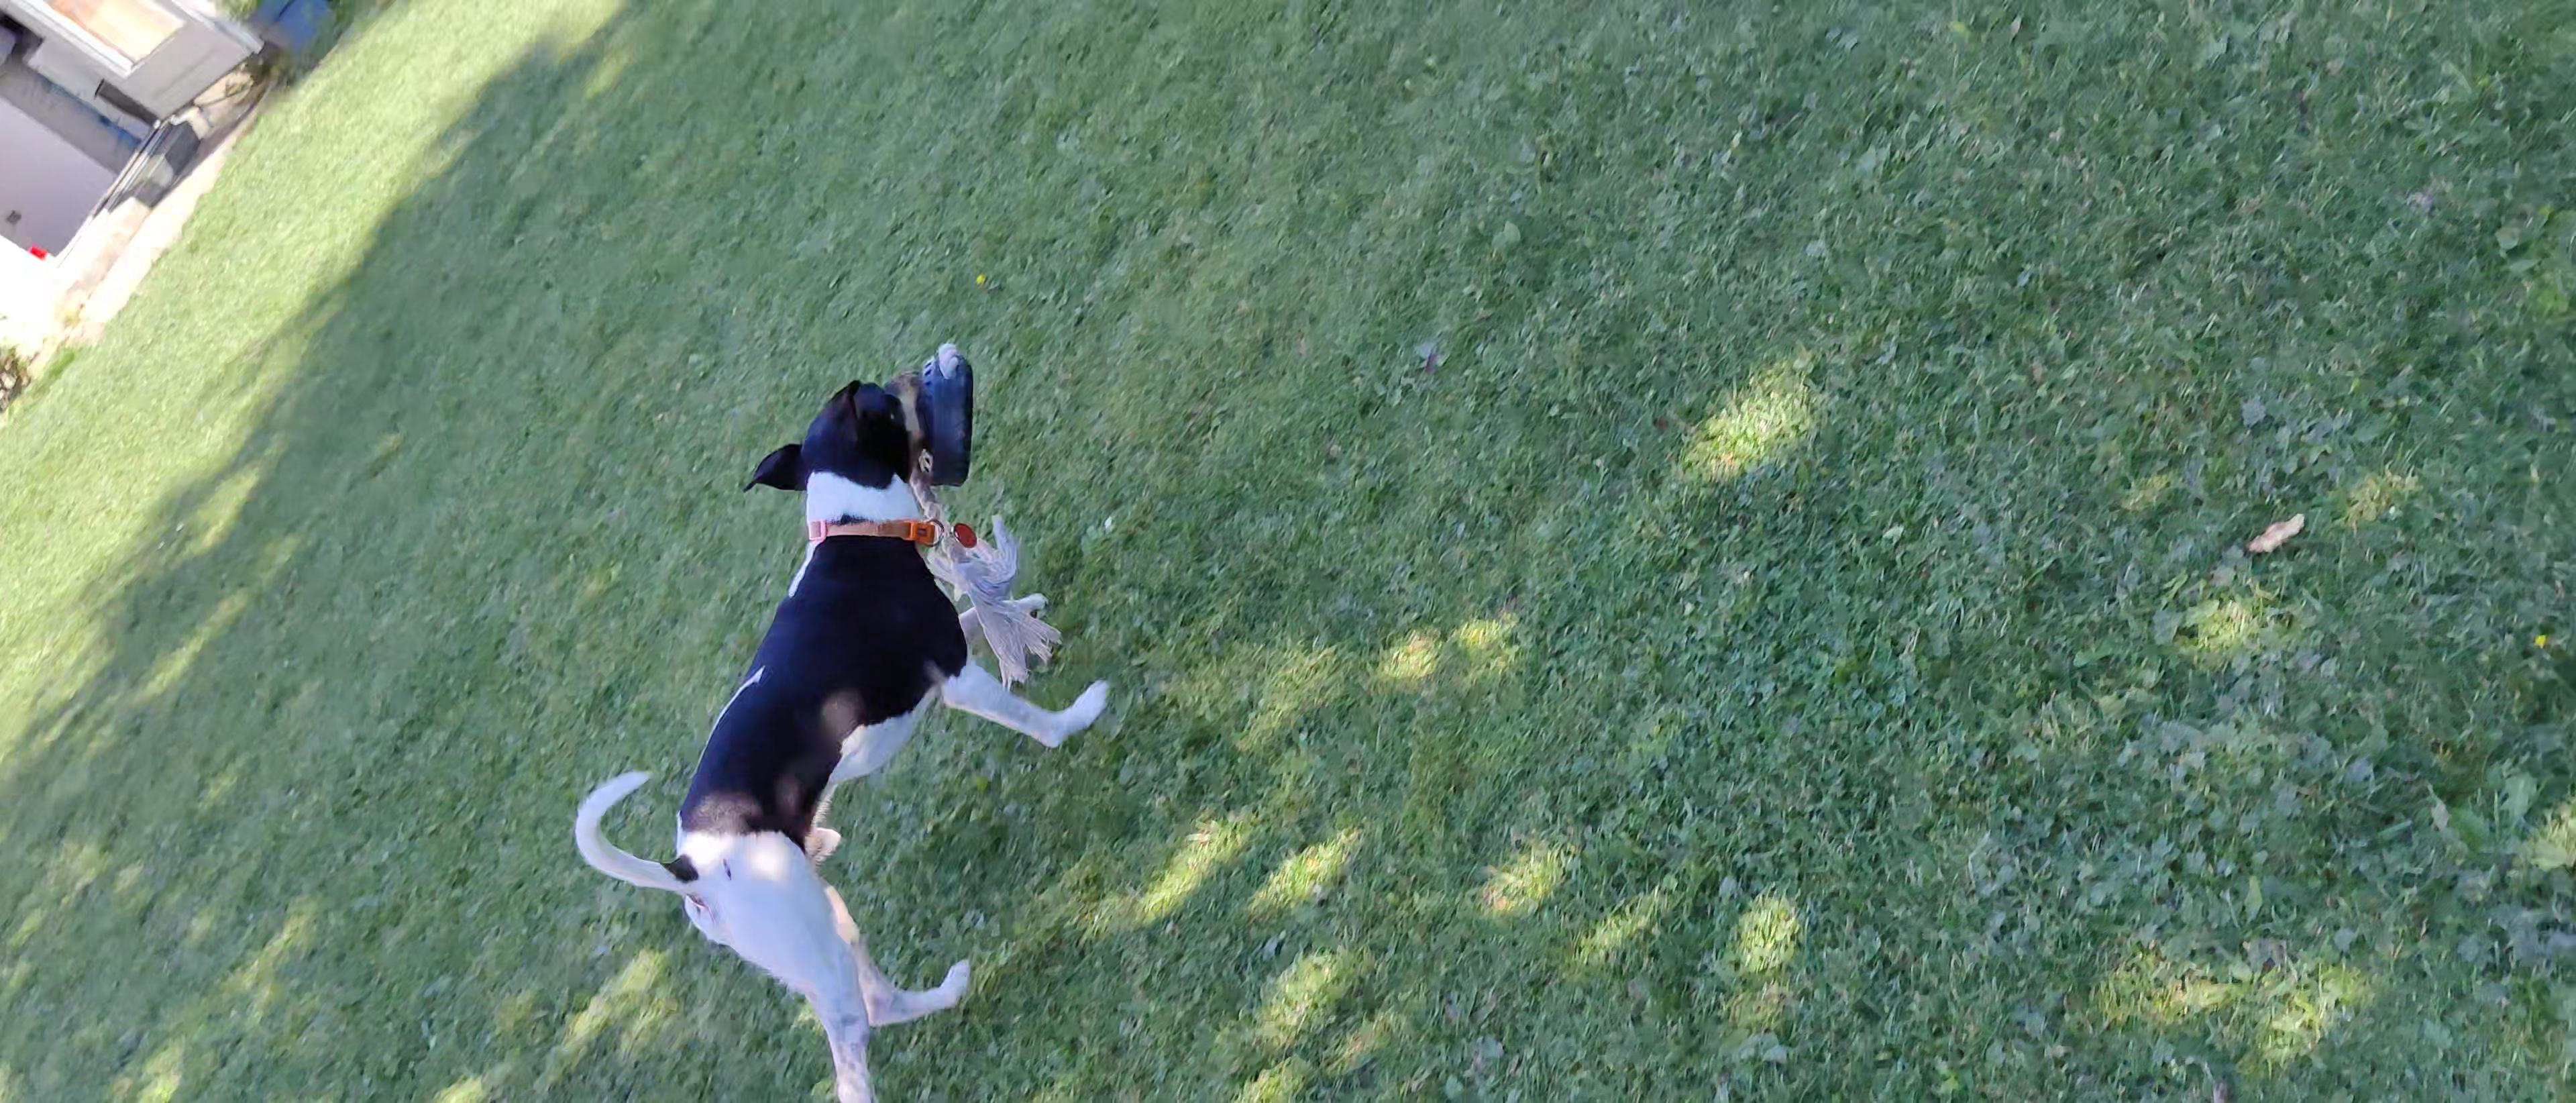Dog: (562, 370, 1112, 1103)
